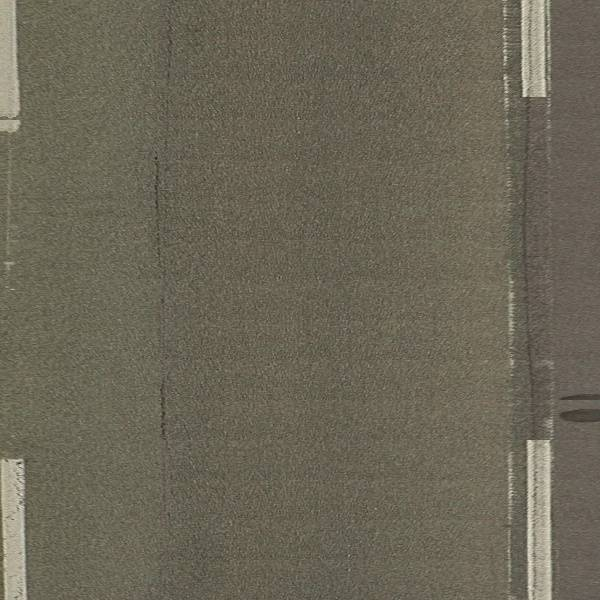road_damage: (147, 7, 183, 506)
